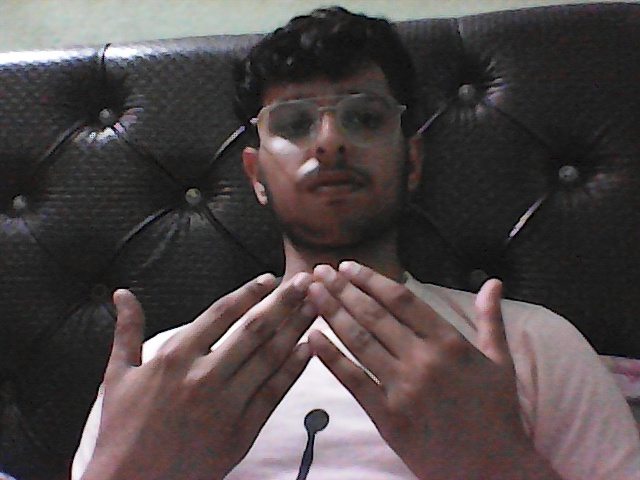thankyou: (95, 269, 527, 480)
